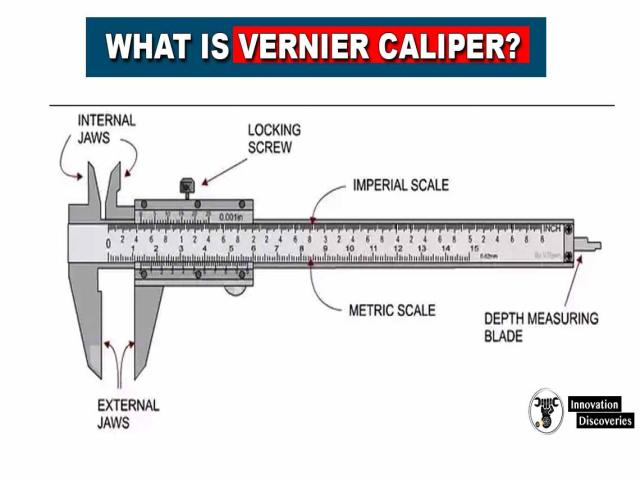Calipers: (68, 162, 601, 378)
